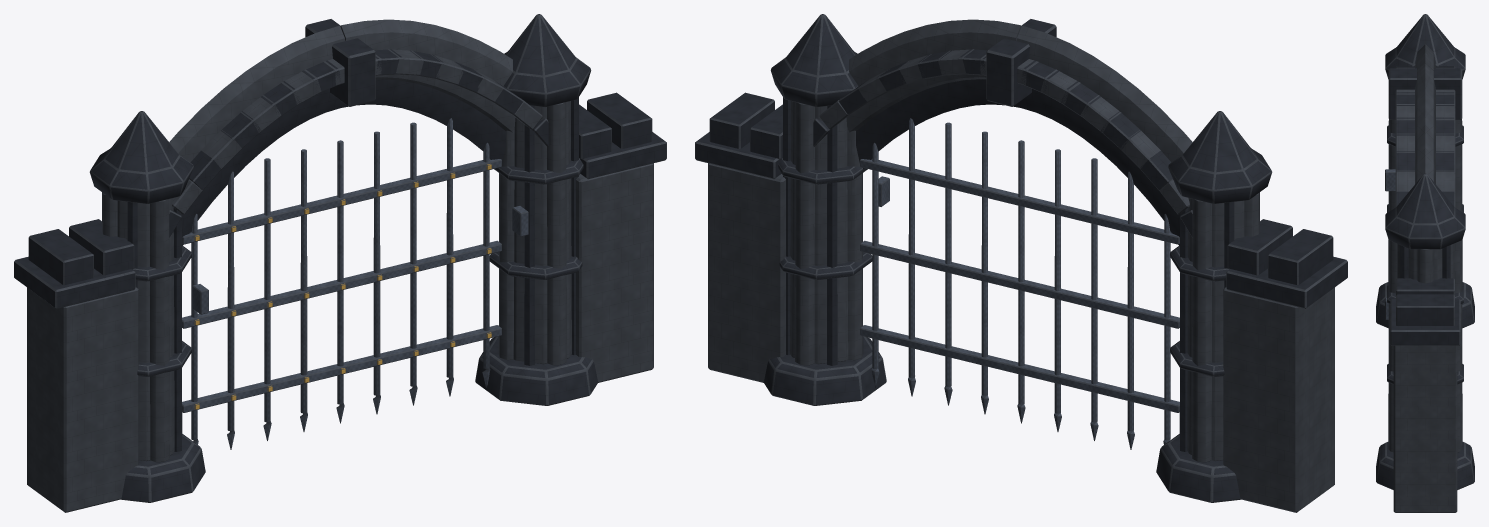
The model's file is kit_boss_gate.glb.
3 renders of one model, left to right at view 1: azimuth 30°, elevation 25°; view 2: azimuth 150°, elevation 25°; view 3: azimuth 270°, elevation 25°, orthographic. The views are drawn at different scales.
Visible parts, largest first — view 1: BossGate, PortcullisBars; view 2: BossGate, PortcullisBars; view 3: BossGate.
Part boxes in pixels (<box>): BossGate: <box>14,14,666,512</box>; PortcullisBars: <box>182,118,501,449</box>; BossGate: <box>695,14,1347,512</box>; PortcullisBars: <box>860,118,1179,449</box>; BossGate: <box>1376,14,1474,512</box>.
Size of the model in its own units: 11.4 by 7.17 by 1.93.
4 materials, 4 textured.
